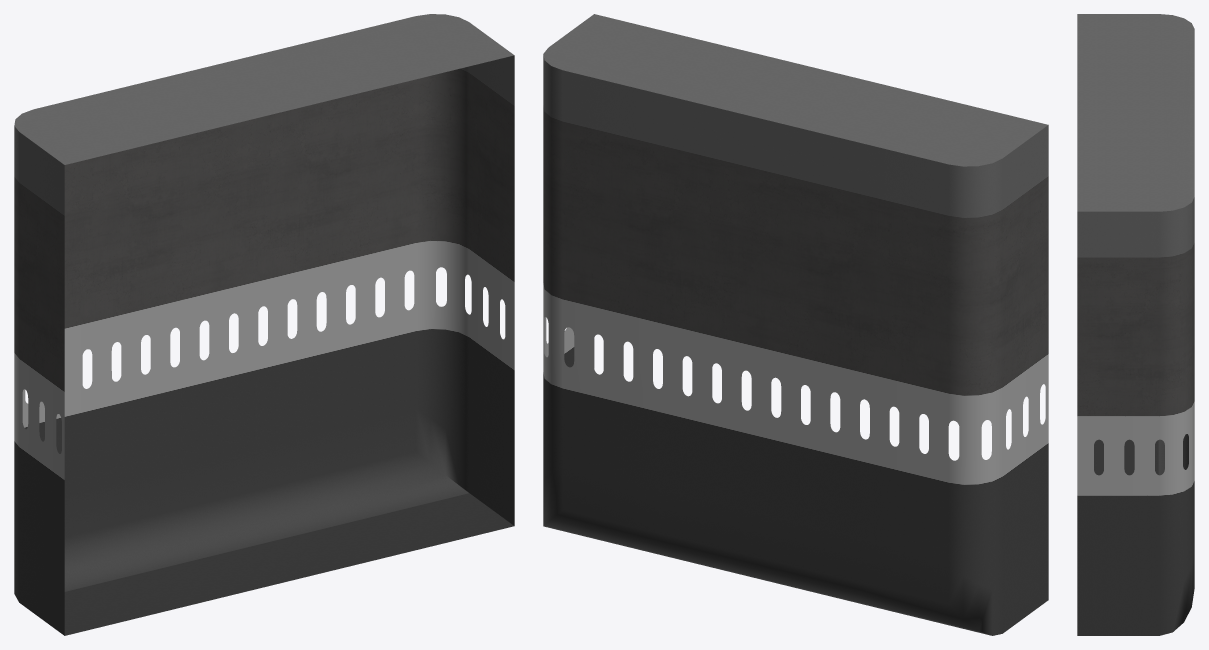
The model's file is Wall_01_E.fbx.
The picture shows the model from 3 angles, left to right: view 1: azimuth 30°, elevation 25°; view 2: azimuth 150°, elevation 25°; view 3: azimuth 270°, elevation 25°; orthographic projection. The views are drawn at different scales.
Parts seen in each view (by area): view 1: Corridor_Wall_01; view 2: Corridor_Wall_01; view 3: Corridor_Wall_01.
Boxes of the visible parts, x1,y1,x2,y2 form: Corridor_Wall_01: (14, 14, 514, 635); Corridor_Wall_01: (543, 14, 1048, 635); Corridor_Wall_01: (1077, 14, 1194, 635).
Bounding box in the file's own units: 400 × 400 × 100.
Materials: 1 (1 with a texture image).
